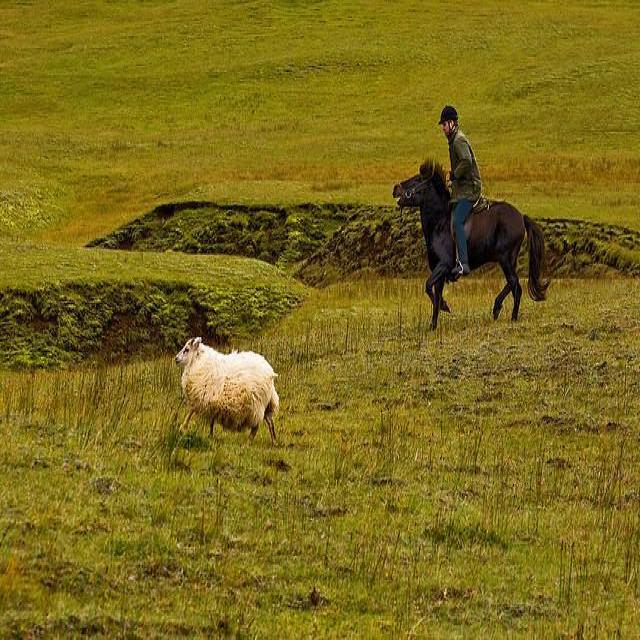Sheep: (178, 337, 282, 445)
